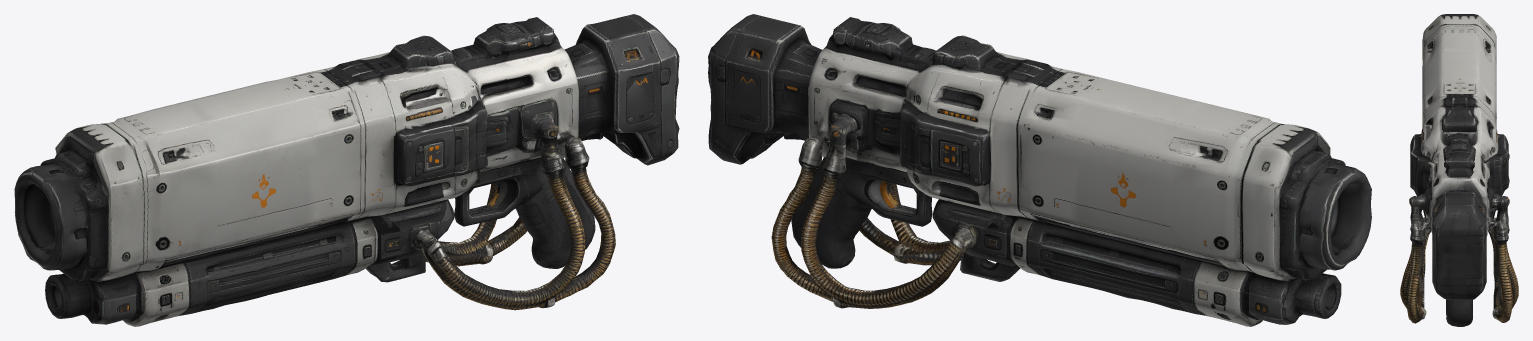
The model's file is Industrial-mining-laser.glb.
The picture shows the model from 3 angles, left to right: view 1: azimuth 30°, elevation 25°; view 2: azimuth 150°, elevation 25°; view 3: azimuth 270°, elevation 25°; orthographic projection. The views are drawn at different scales.
Visible parts, largest first — view 1: Mesh_0; view 2: Mesh_0; view 3: Mesh_0.
Boxes of the visible parts, box(x1,y1,x2,y2) form: Mesh_0: box(14, 14, 679, 326); Mesh_0: box(708, 14, 1371, 326); Mesh_0: box(1400, 14, 1518, 326).
Bounding box in the file's own units: 0.1757 × 0.07 × 0.0429.
1 material, 1 textured.
